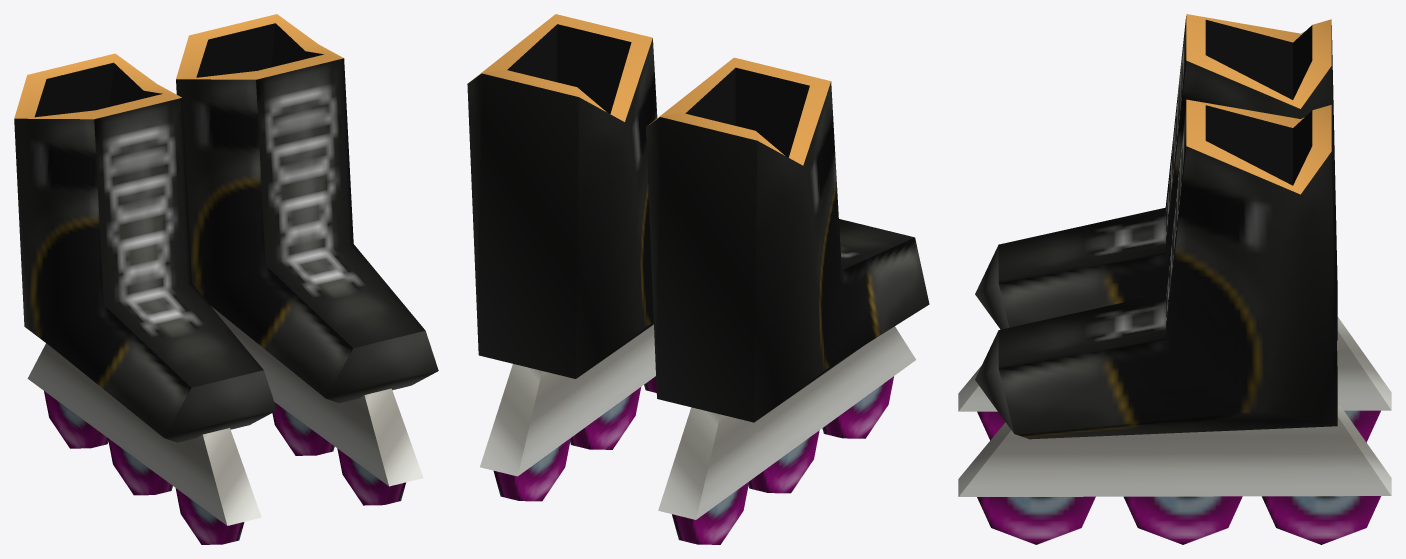
Rendered from RollerBlades.fbx.
3 views of the same model, side by side, from view 1: azimuth 30°, elevation 25°; view 2: azimuth 150°, elevation 25°; view 3: azimuth 270°, elevation 25° (orthographic). The views are drawn at different scales.
Visible parts, largest first — view 1: Maya_File_Assets:polySurface1; view 2: Maya_File_Assets:polySurface1; view 3: Maya_File_Assets:polySurface1.
Boxes of the visible parts, <box> form: Maya_File_Assets:polySurface1: <box>14,14,438,544</box>; Maya_File_Assets:polySurface1: <box>467,14,929,544</box>; Maya_File_Assets:polySurface1: <box>958,14,1391,544</box>.
Bounding box in the file's own units: 0.3371 × 0.4064 × 0.3831.
